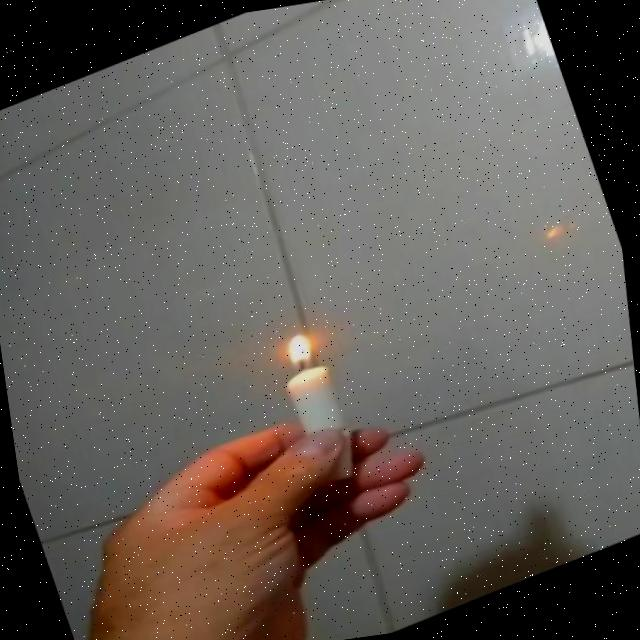fire: (280, 321, 332, 374)
